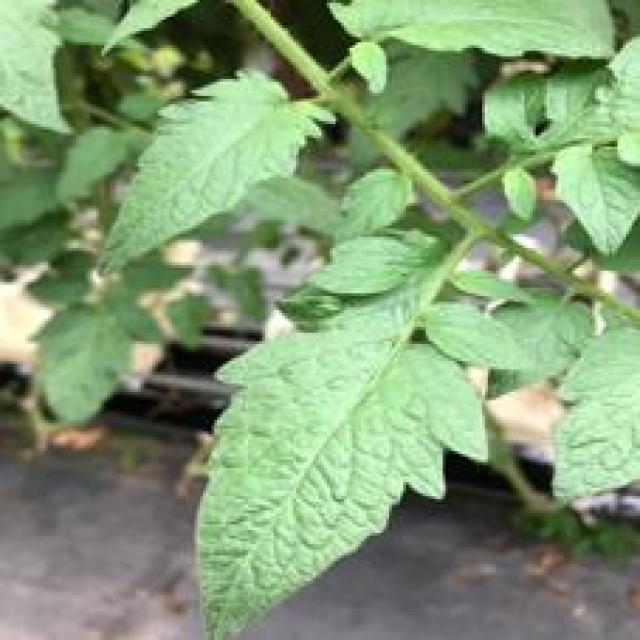Tomato healthy leaf: (195, 296, 489, 640), (99, 67, 338, 269), (324, 0, 612, 59), (550, 328, 640, 502), (550, 141, 640, 265), (304, 234, 422, 294), (336, 171, 414, 234), (449, 262, 534, 308)
